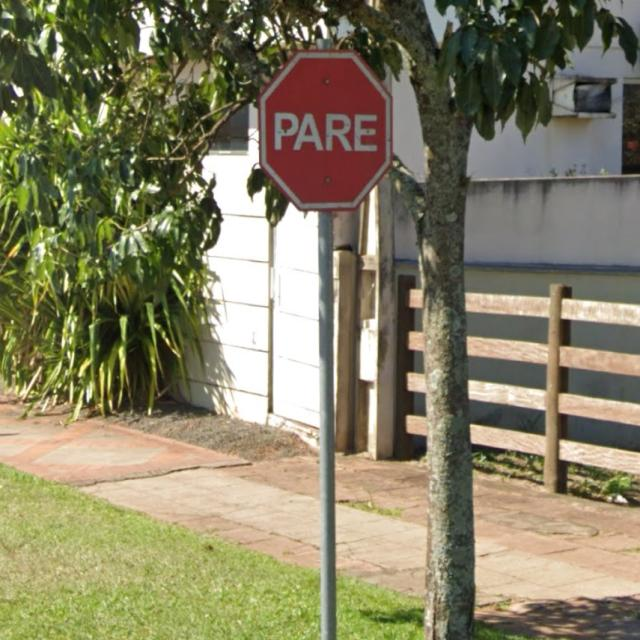stop: (238, 30, 398, 233)
